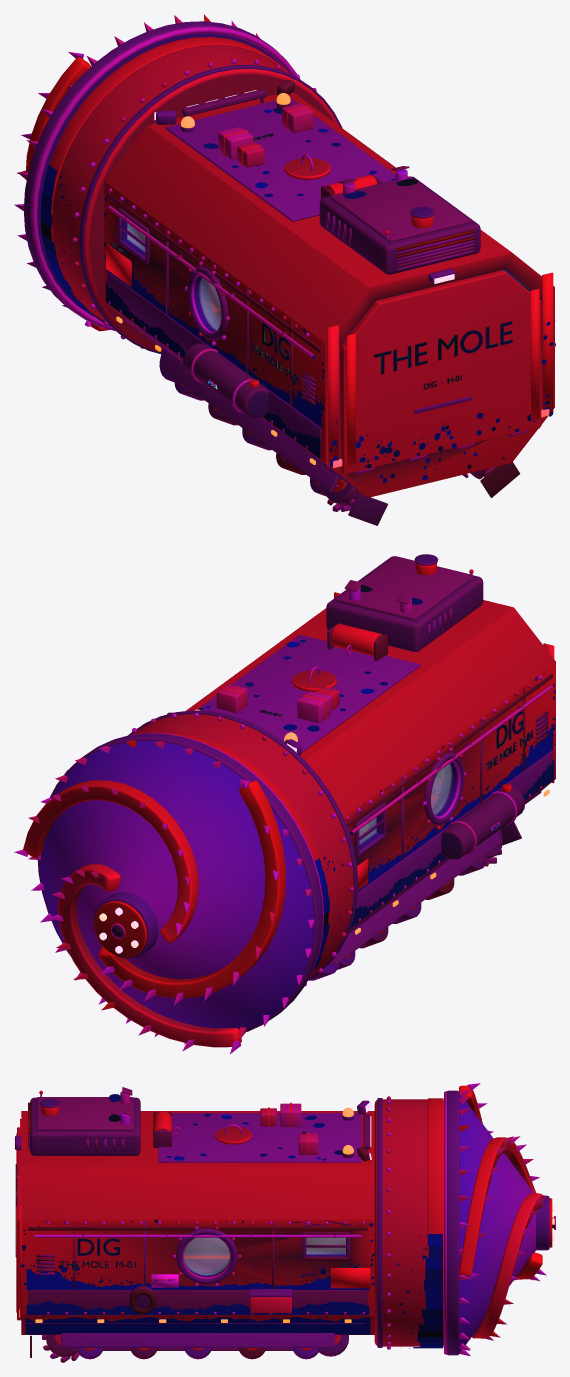
The model's file is mol.glb.
3 views of the same model, one above another, from view 1: azimuth 30°, elevation 25°; view 2: azimuth 150°, elevation 25°; view 3: azimuth 270°, elevation 25° (orthographic). The views are drawn at different scales.
Visible parts, largest first — view 1: Hull, Ramp, DrillHead, Glass, Interior, Wheel_L_0; view 2: Hull, DrillHead, Hub, Glass, Interior; view 3: Hull, DrillHead, Glass, Interior, Ramp, Hub, Wheel_R_0, Wheel_R_1.
Boxes of the visible parts, left/top/right/bottom form: Hull: left=40, top=37, right=555, bottom=525; Ramp: left=340, top=270, right=541, bottom=474; DrillHead: left=14, top=14, right=300, bottom=331; Glass: left=127, top=223, right=221, bottom=330; Interior: left=125, top=230, right=539, bottom=476; Wheel_L_0: left=325, top=477, right=363, bottom=511; Hull: left=128, top=554, right=555, bottom=986; DrillHead: left=14, top=733, right=323, bottom=1053; Hub: left=93, top=892, right=158, bottom=958; Glass: left=359, top=764, right=452, bottom=845; Interior: left=349, top=769, right=541, bottom=933; Hull: left=14, top=1087, right=443, bottom=1357; DrillHead: left=444, top=1083, right=546, bottom=1356; Glass: left=183, top=1237, right=345, bottom=1275; Interior: left=21, top=1238, right=365, bottom=1323; Ramp: left=15, top=1127, right=21, bottom=1320; Hub: left=536, top=1195, right=555, bottom=1250; Wheel_R_0: left=42, top=1334, right=79, bottom=1362; Wheel_R_1: left=318, top=1334, right=348, bottom=1356.
Bounding box in the file's own units: 6.22 × 6.1 × 12.27.
